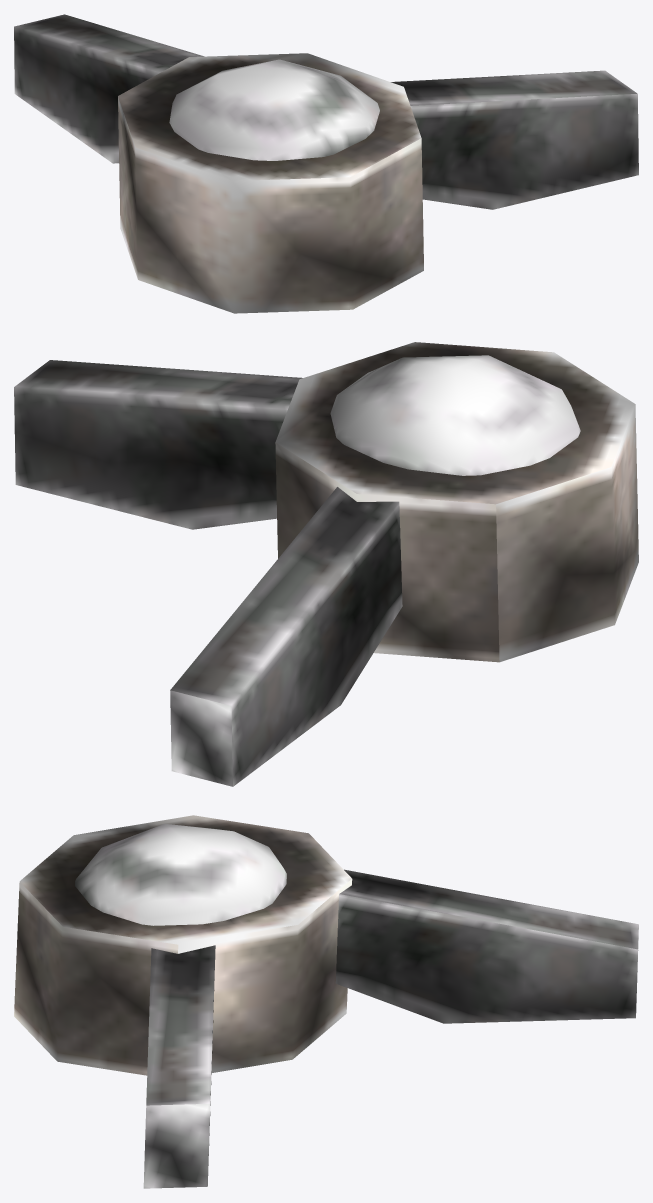
File: Robot01.LeftFoot2.fbx
3 renders of one model, top to bottom at view 1: azimuth 30°, elevation 25°; view 2: azimuth 150°, elevation 25°; view 3: azimuth 270°, elevation 25°, orthographic. The views are drawn at different scales.
Parts seen in each view (by area): view 1: mesh_1108; view 2: mesh_1108; view 3: mesh_1108.
Part boxes in pixels (x1=…): mesh_1108: x1=14, y1=14, x2=638, y2=313; mesh_1108: x1=14, y1=342, x2=638, y2=786; mesh_1108: x1=14, y1=815, x2=638, y2=1188.
Bounding box in the file's own units: 62.23 × 21.58 × 67.88.
